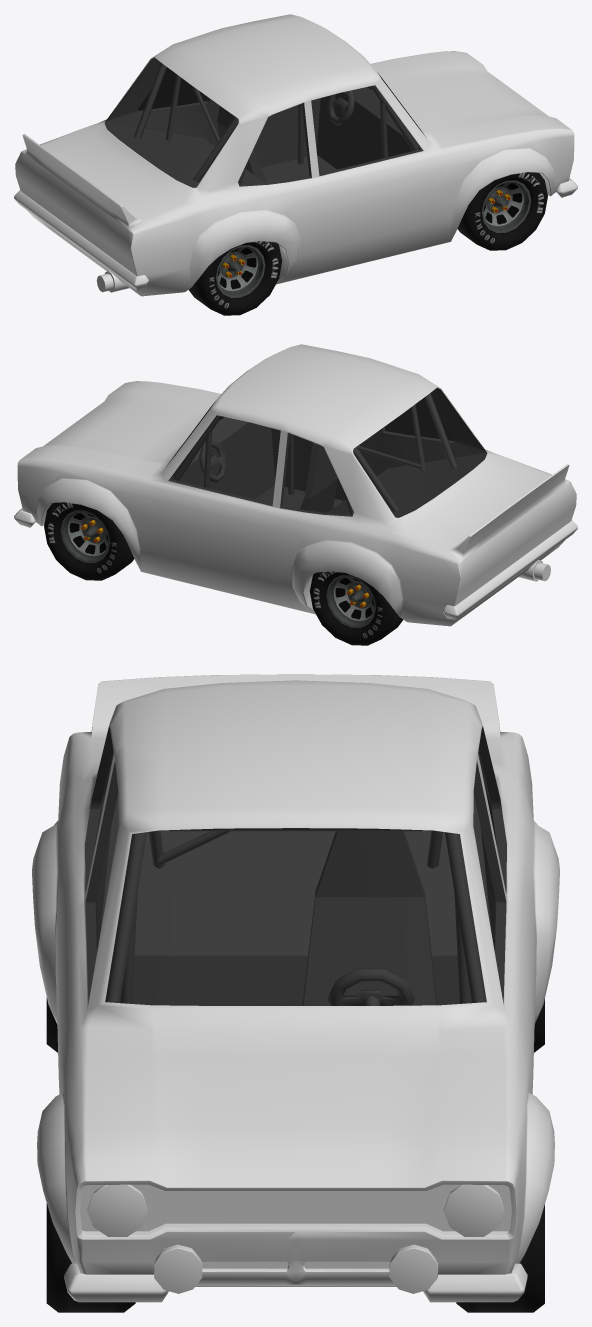
3 renders of one model, top to bottom at view 1: azimuth 30°, elevation 25°; view 2: azimuth 150°, elevation 25°; view 3: azimuth 270°, elevation 25°, orthographic. The views are drawn at different scales.
Visible parts, largest first — view 1: CarBody, Glass, TireFrontR, TireRearR; view 2: CarBody, Glass, TireFrontL, TireRearL; view 3: CarBody, Glass, TireFrontR, TireFrontL.
Boxes of the visible parts, <box> form: CarBody: <box>14,14,577,296</box>; Glass: <box>104,57,425,187</box>; TireFrontR: <box>457,172,547,250</box>; TireRearR: <box>188,241,282,315</box>; CarBody: <box>14,344,577,626</box>; Glass: <box>166,387,487,517</box>; TireFrontL: <box>44,502,134,580</box>; TireRearL: <box>309,571,403,645</box>; CarBody: <box>32,674,559,1302</box>; Glass: <box>85,726,506,1005</box>; TireFrontR: <box>46,1203,135,1312</box>; TireFrontL: <box>456,1204,544,1312</box>.
Bounding box in the file's own units: 252 × 106 × 127.
